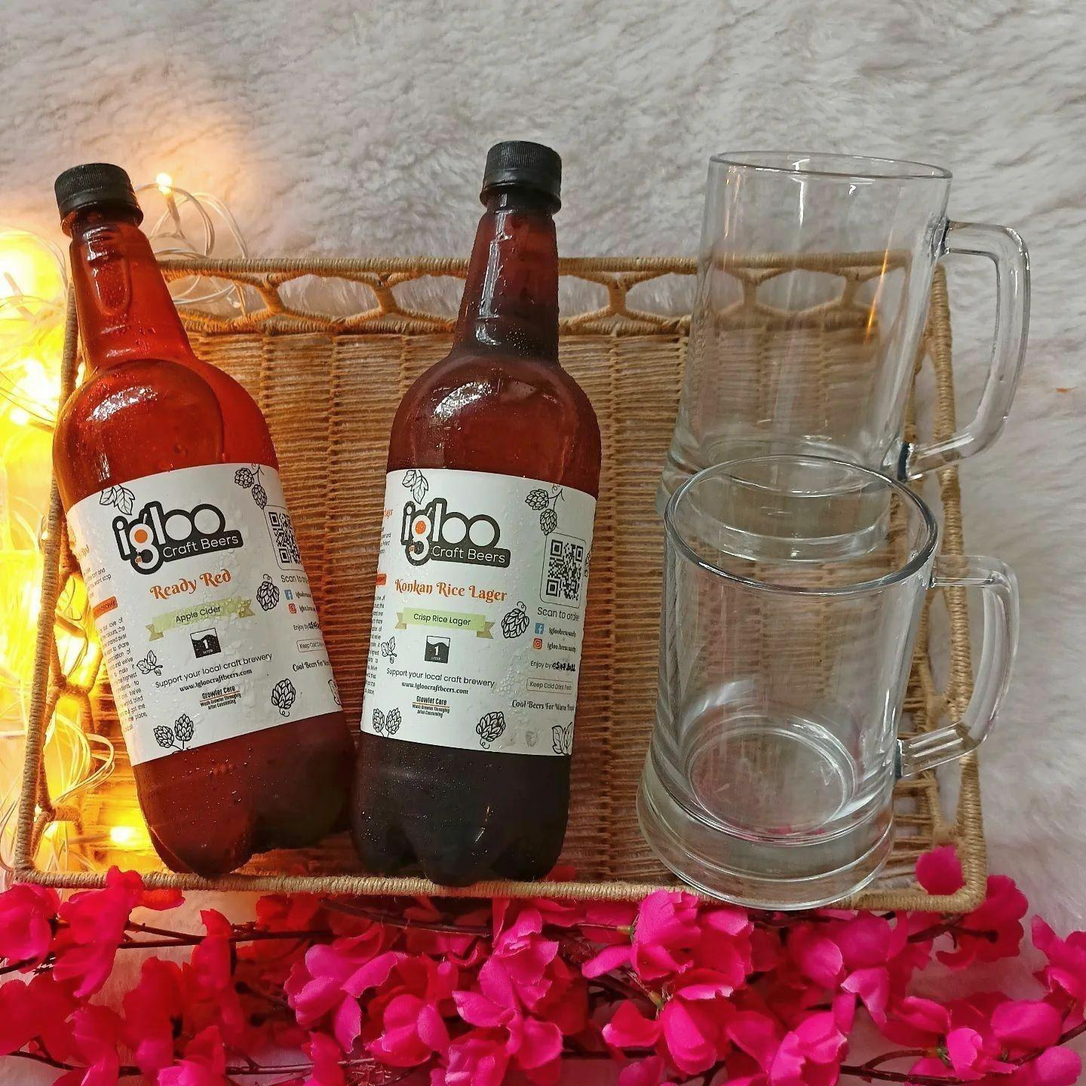bottle-glass: (32, 150, 354, 878), (346, 132, 614, 891)
glass-mug: (634, 449, 1024, 919), (683, 141, 1042, 490)
